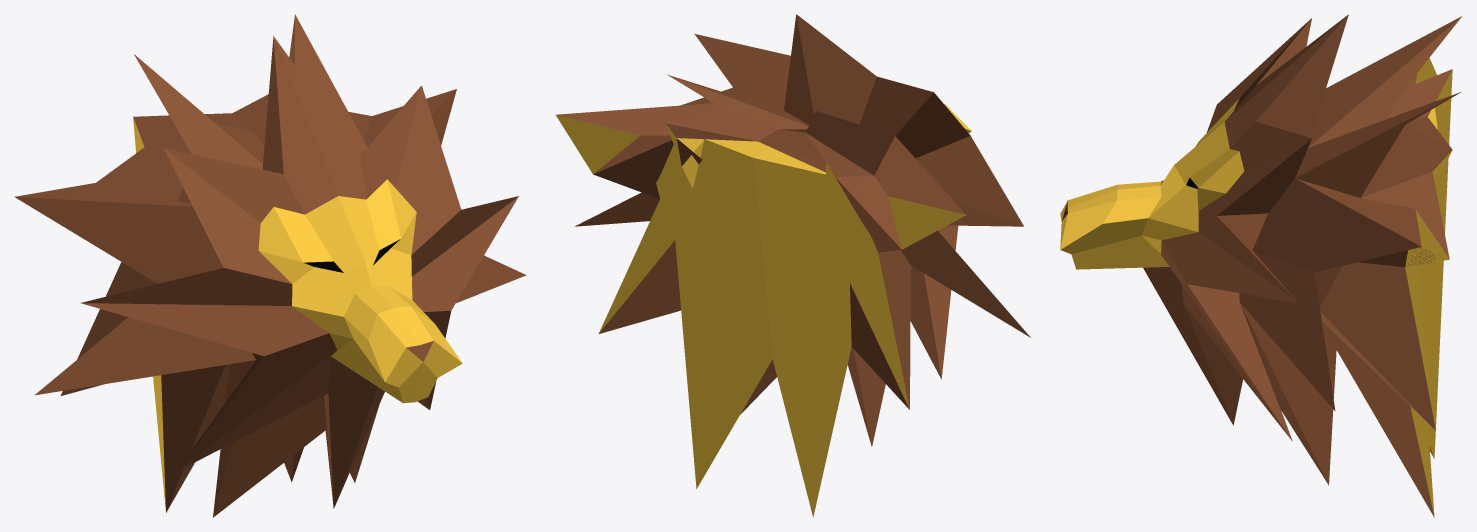
File: lion head.fbx
The picture shows the model from 3 angles, left to right: view 1: azimuth 30°, elevation 25°; view 2: azimuth 150°, elevation 25°; view 3: azimuth 270°, elevation 25°; orthographic projection. The views are drawn at different scales.
Parts seen in each view (by area): view 1: Lion; view 2: Lion; view 3: Lion.
Part boxes in pixels (x1,y1,x2,y2): Lion: (14,14,526,517); Lion: (556,14,1030,517); Lion: (1060,14,1461,517).
Size of the model in its own units: 324 by 311 by 239.
